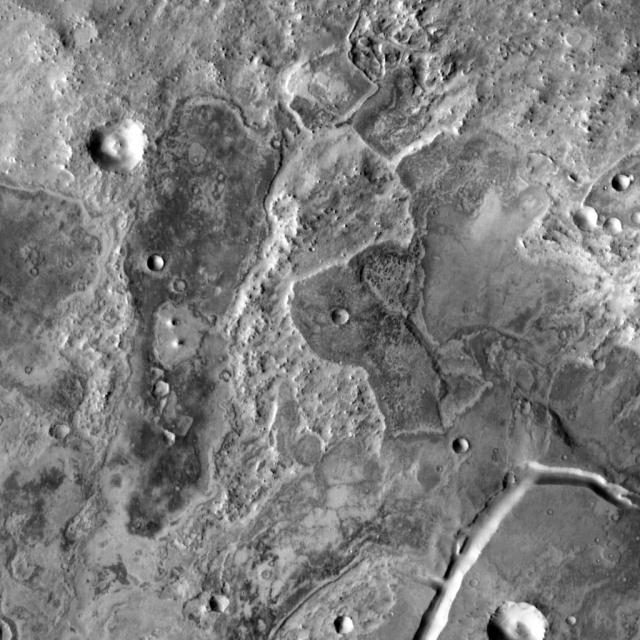crater: (89, 115, 149, 173), (488, 600, 549, 640), (62, 18, 98, 52), (577, 207, 600, 229), (210, 592, 230, 612), (336, 614, 356, 632), (334, 306, 352, 324), (149, 254, 167, 272), (52, 422, 70, 439), (154, 379, 172, 396), (614, 173, 632, 190), (607, 217, 625, 234), (455, 438, 471, 453), (597, 360, 609, 370), (178, 281, 189, 291), (169, 433, 180, 443), (570, 616, 580, 626), (274, 138, 284, 148), (214, 285, 223, 294), (473, 578, 481, 586), (225, 371, 232, 378), (26, 261, 32, 268)
